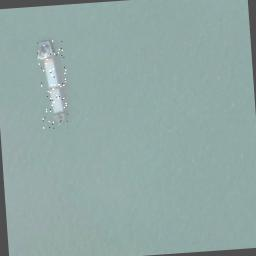boat: (36, 40, 70, 130)
